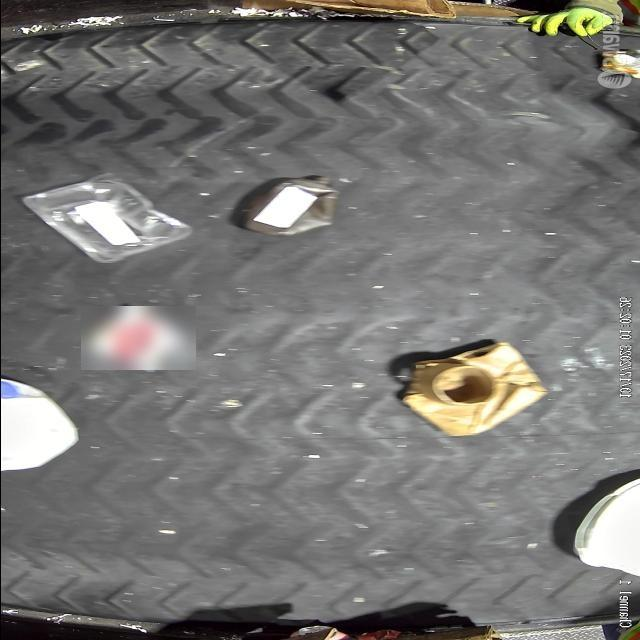non_white_jug: (242, 176, 340, 236)
